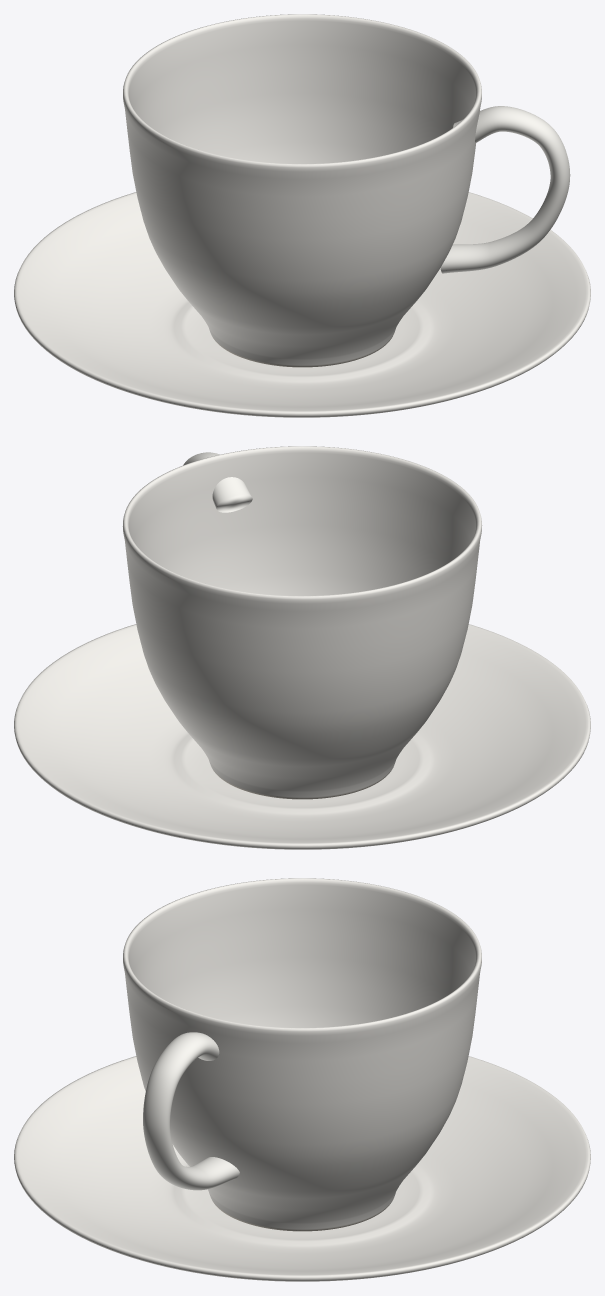
File: white-cup-saucer.glb
3 renders of one model, top to bottom at view 1: azimuth 30°, elevation 25°; view 2: azimuth 150°, elevation 25°; view 3: azimuth 270°, elevation 25°, orthographic.
Parts seen in each view (by area): view 1: cup, saucer, cup-handle; view 2: cup, saucer, cup-handle; view 3: cup, saucer, cup-handle.
Part boxes in pixels (x1,y1,x2,y2): cup: (123, 14, 481, 367); saucer: (14, 192, 590, 417); cup-handle: (440, 106, 570, 273); cup: (122, 446, 482, 799); saucer: (14, 624, 590, 849); cup-handle: (183, 452, 252, 512); cup: (123, 878, 481, 1231); saucer: (14, 1056, 590, 1281); cup-handle: (143, 1032, 239, 1190).
Size of the model in its own units: 0.1506 by 0.0753 by 0.1506.
3 materials, 2 textured.
